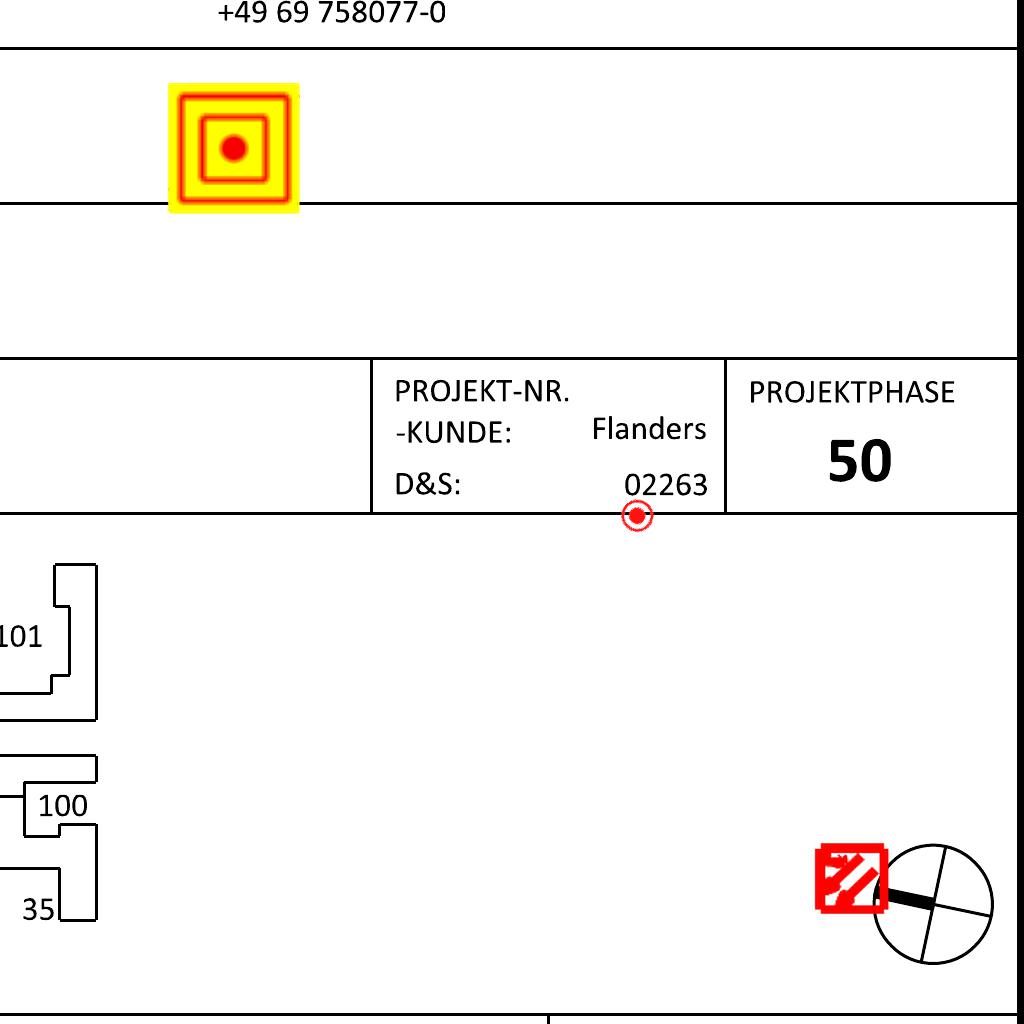NAM-Nichtautomatischer_Melder: (168, 82, 300, 214)
OT_Multisensormelder_(Kombination_RMO_WMD): (793, 822, 906, 935)
Taster: (614, 493, 661, 540)
